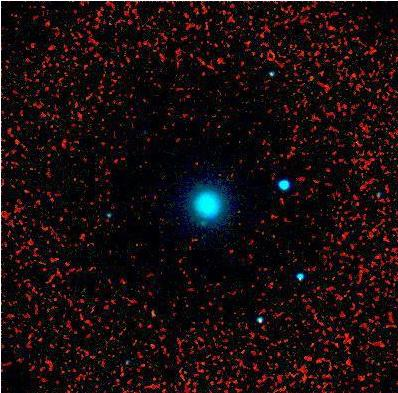star: (200, 202, 230, 232)
